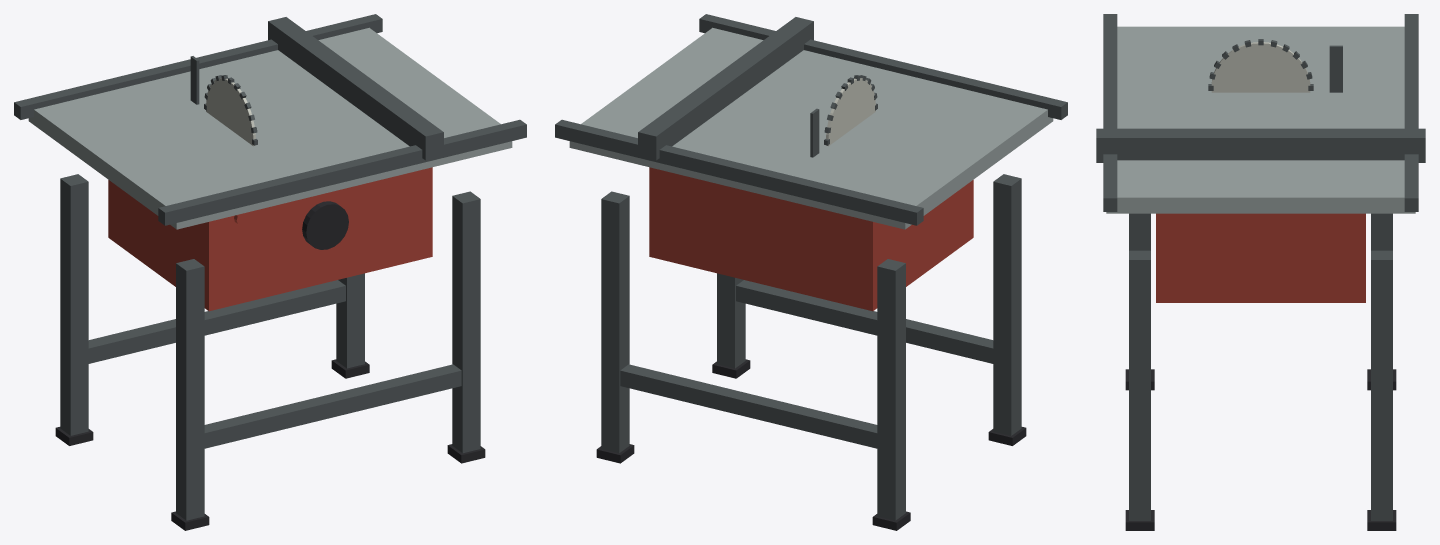
Rendered from SHOP_TableSawStation.glb.
3 views of the same model, side by side, from view 1: azimuth 30°, elevation 25°; view 2: azimuth 150°, elevation 25°; view 3: azimuth 270°, elevation 25° (orthographic). The views are drawn at different scales.
Parts seen in each view (by area): view 1: Table, Frame, SawBody, Stretchers, FenceRails, Fence, Blade, HeightWheel, Feet; view 2: Table, SawBody, Frame, Stretchers, FenceRails, Fence, Blade, Feet; view 3: Table, SawBody, Frame, Fence, FenceRails, Blade, Feet, RivingKnife, Teeth.
Part boxes in pixels (left/top/right/bottom): Table: left=28, top=27, right=512, bottom=229; Frame: left=60, top=174, right=480, bottom=520; SawBody: left=108, top=167, right=432, bottom=311; Stretchers: left=88, top=280, right=461, bottom=448; FenceRails: left=14, top=14, right=526, bottom=225; Fence: left=268, top=17, right=443, bottom=160; Blade: left=206, top=78, right=255, bottom=146; HeightWheel: left=302, top=201, right=348, bottom=249; Feet: left=55, top=359, right=485, bottom=530; Table: left=569, top=27, right=1053, bottom=229; SawBody: left=649, top=167, right=973, bottom=311; Frame: left=601, top=174, right=1021, bottom=520; Stretchers: left=620, top=280, right=993, bottom=448; FenceRails: left=555, top=14, right=1067, bottom=225; Fence: left=638, top=17, right=813, bottom=160; Blade: left=826, top=78, right=875, bottom=146; Feet: left=596, top=359, right=1026, bottom=530; Table: left=1106, top=26, right=1415, bottom=213; SawBody: left=1156, top=213, right=1365, bottom=302; Frame: left=1129, top=213, right=1392, bottom=520; Fence: left=1096, top=128, right=1425, bottom=162; FenceRails: left=1103, top=14, right=1418, bottom=211; Blade: left=1211, top=42, right=1310, bottom=92; Feet: left=1125, top=369, right=1396, bottom=530; RivingKnife: left=1329, top=45, right=1342, bottom=92; Teeth: left=1208, top=39, right=1313, bottom=90.
Bounding box in the file's own units: 1.1 × 1.1 × 0.83.
